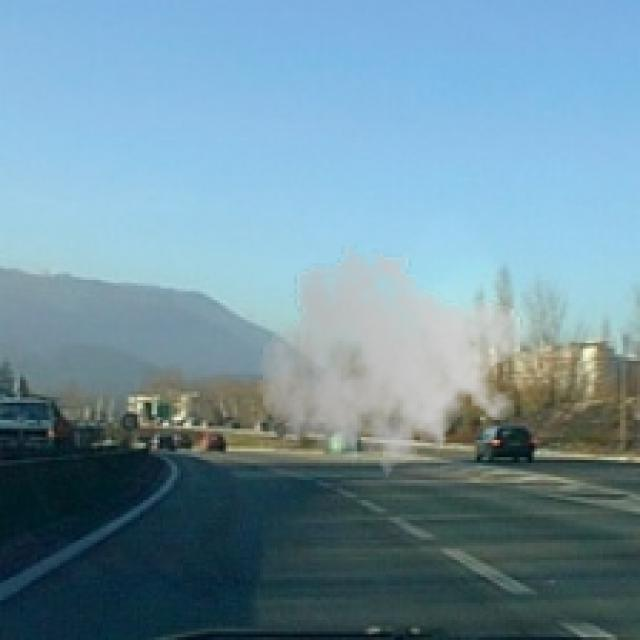smoke: (257, 237, 526, 489)
